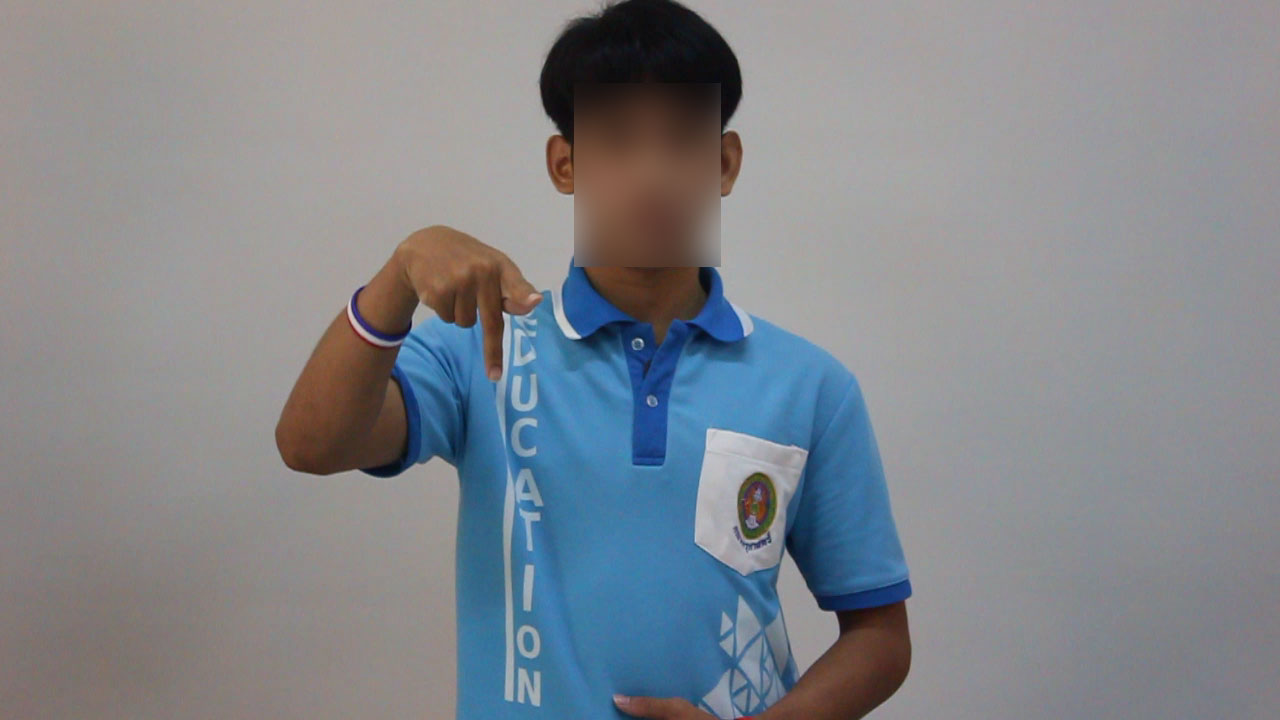por: (388, 196, 554, 386)
